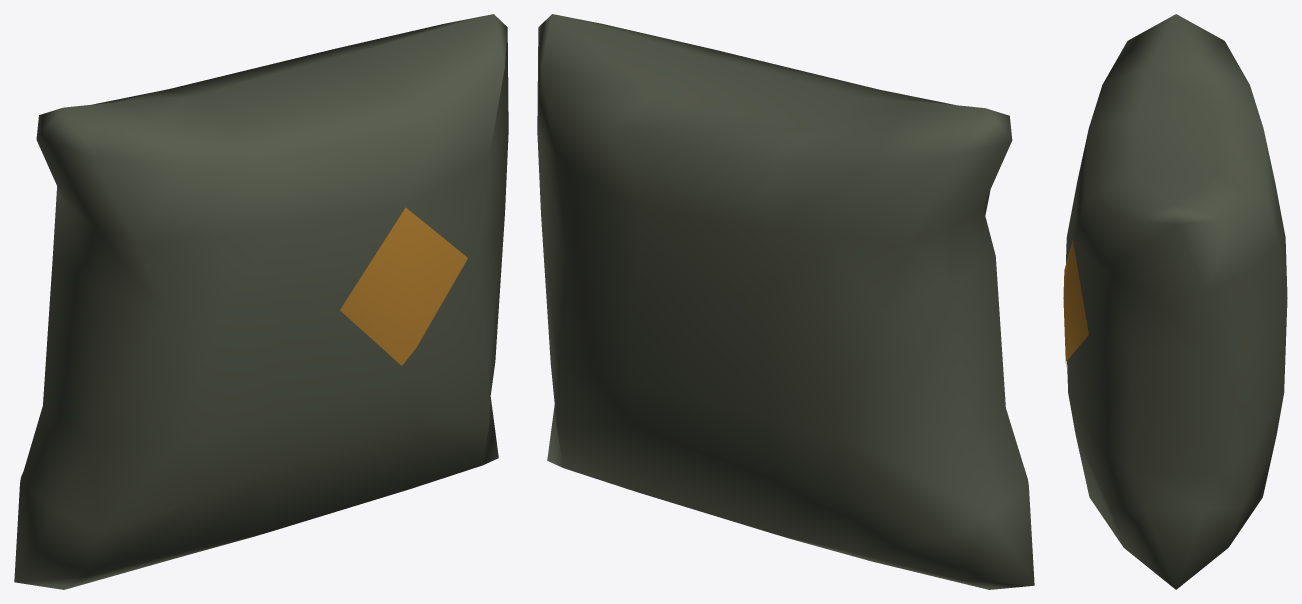
The model's file is pezza.fbx.
3 views of the same model, side by side, from view 1: azimuth 30°, elevation 25°; view 2: azimuth 150°, elevation 25°; view 3: azimuth 270°, elevation 25° (orthographic). The views are drawn at different scales.
Parts seen in each view (by area): view 1: polySurface10; view 2: polySurface10; view 3: polySurface10.
Part boxes in pixels (box(x1,y1,x2,y2)): polySurface10: box(14, 14, 508, 589); polySurface10: box(537, 14, 1034, 589); polySurface10: box(1063, 14, 1287, 589).
Size of the model in its own units: 584 by 543 by 267.
1 material, 1 textured.
